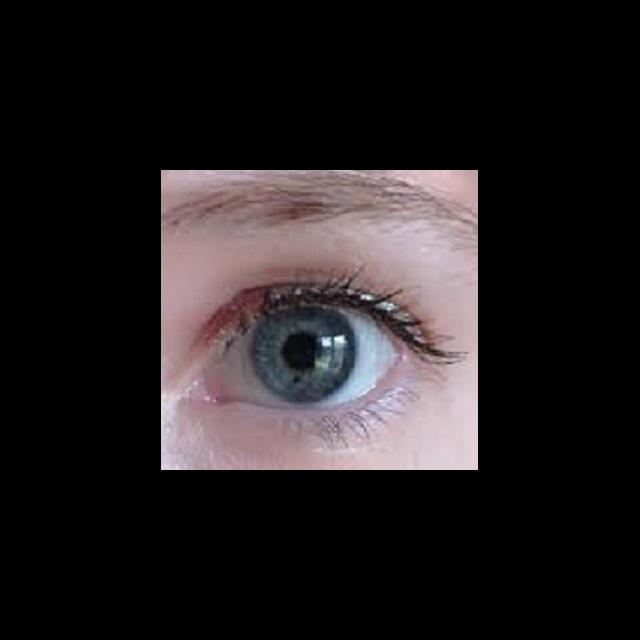eye: (224, 305, 399, 408)
iris: (251, 309, 355, 403)
